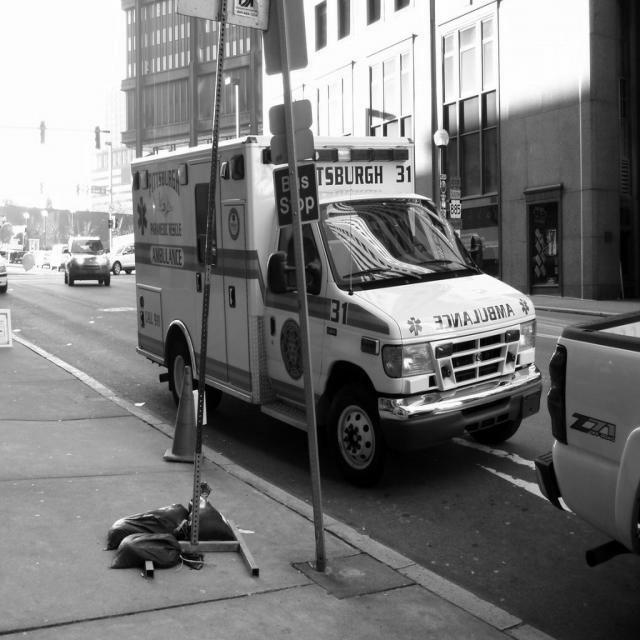Ambulance: (130, 135, 549, 488)
